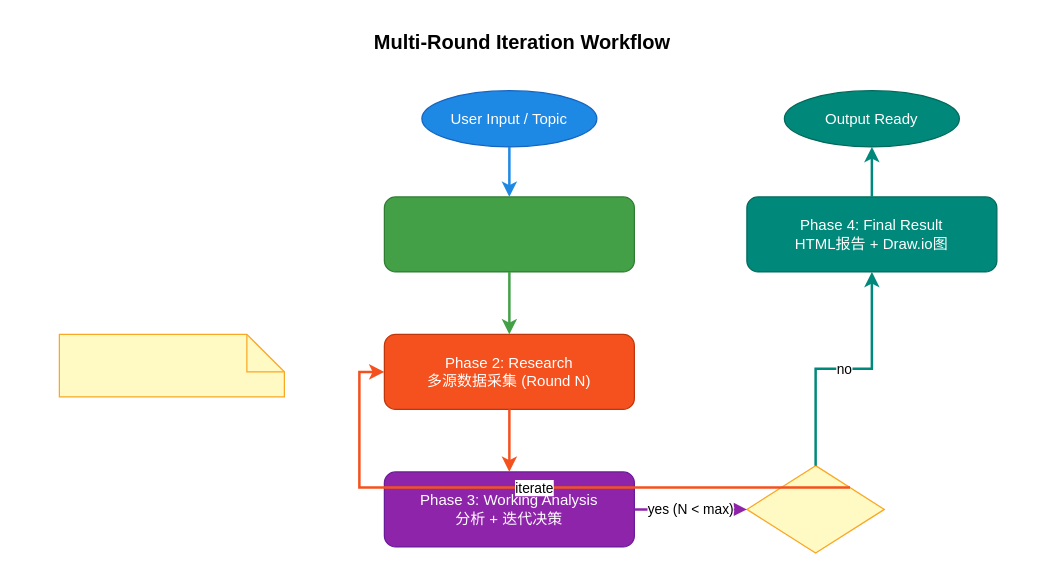
The diagram is 1043 pixels wide and 575 high, and some of its shapes have lost their labels. The box of each missing label's shape, as (x1, y1, x2, y2) in pixels:
max_iterations defined in planning.yml default: 5, user-configurable: (58, 333, 284, 397)
Need more research?: (746, 464, 884, 553)
Phase 1: Planning 需求分析 + 搜索策略: (383, 196, 634, 272)
